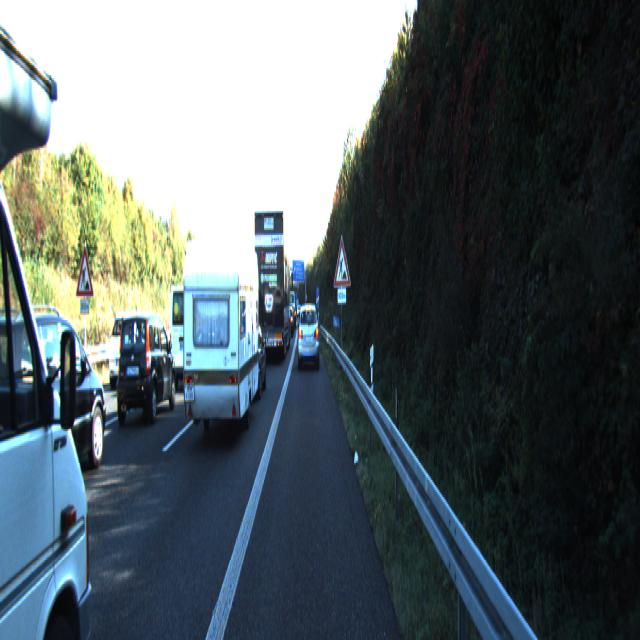Car: (0, 309, 109, 531), (115, 310, 177, 425), (109, 308, 157, 388), (229, 315, 267, 399), (297, 300, 320, 368)
Misc: (0, 0, 118, 638), (182, 230, 260, 450)
Truck: (255, 208, 291, 362)
Van: (168, 281, 222, 390)
